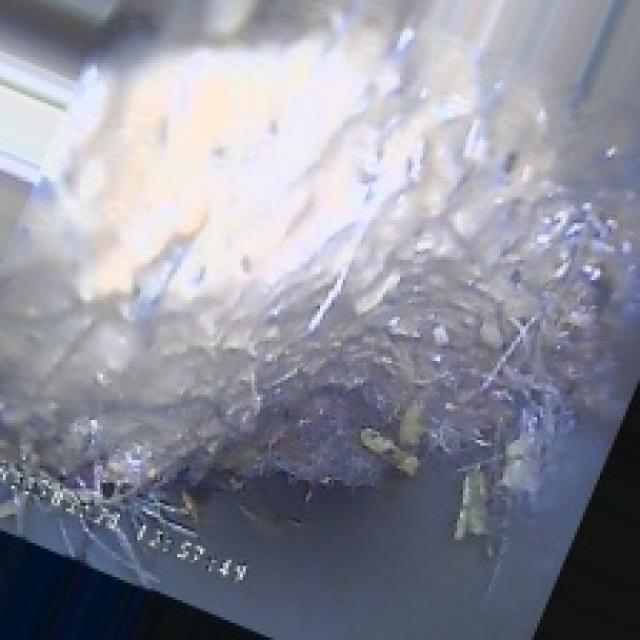sluge accumulation: (60, 91, 560, 488)
